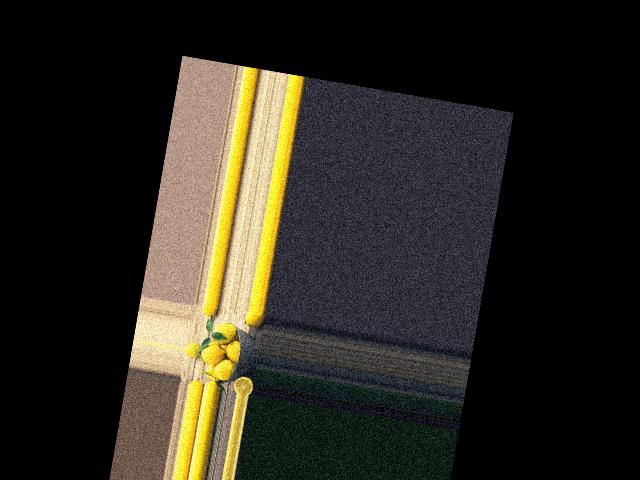lemon: (212, 355, 242, 383)
